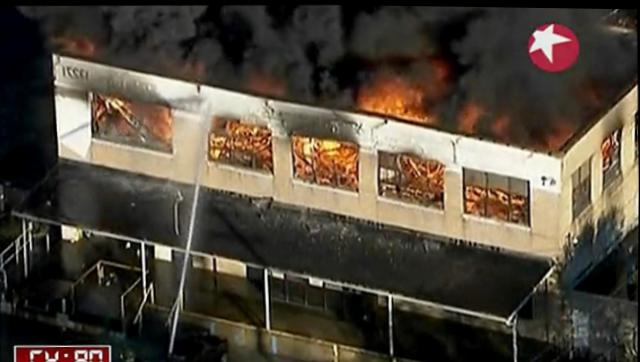fire: (356, 77, 432, 117), (296, 138, 363, 180), (230, 124, 272, 158), (208, 134, 228, 159)
